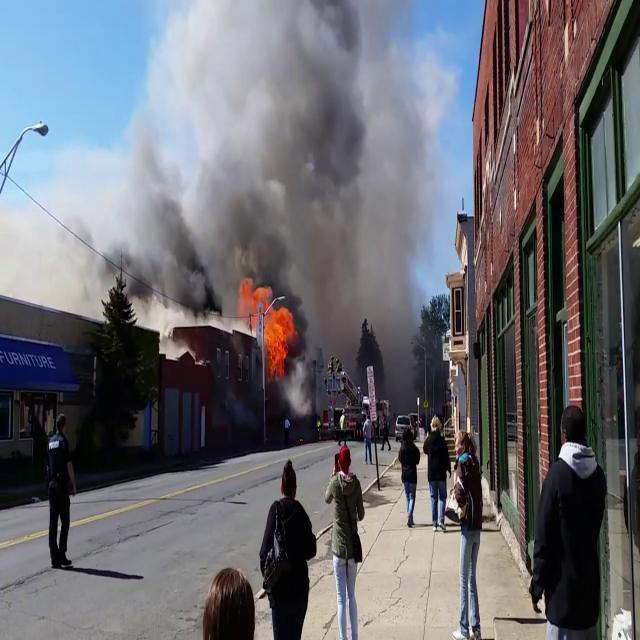Fire: (254, 278, 296, 375)
Smoke: (103, 0, 434, 326)
